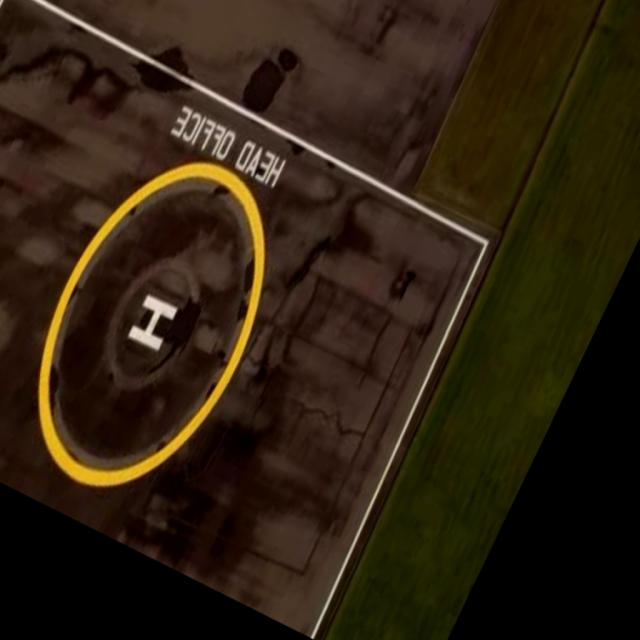helipad: (33, 158, 266, 492)
